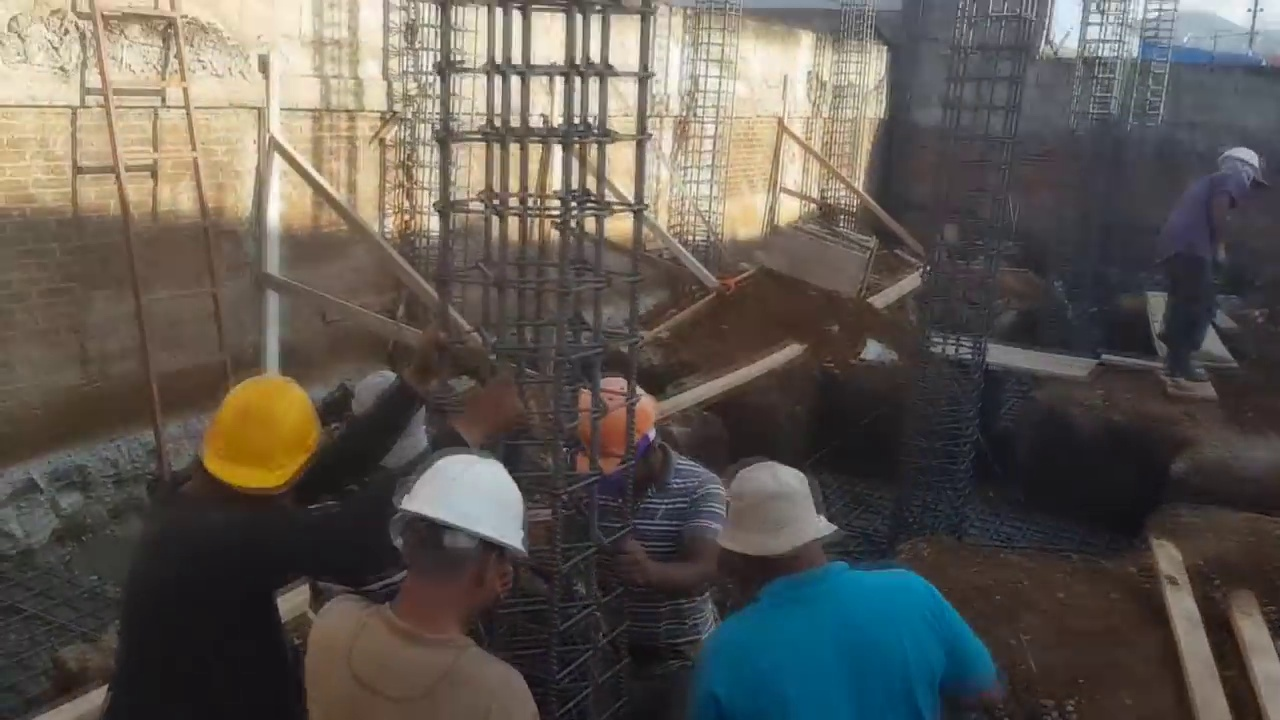helmet: (395, 457, 530, 568), (191, 380, 317, 497), (571, 364, 657, 472), (1216, 149, 1262, 175)
helmet-off: (717, 462, 840, 603)
helmet-on: (382, 456, 531, 656), (165, 377, 318, 531), (571, 362, 674, 497), (1206, 147, 1268, 197)
person: (136, 341, 444, 700), (303, 431, 565, 720), (683, 467, 982, 698), (569, 358, 715, 682), (1157, 136, 1265, 413)
